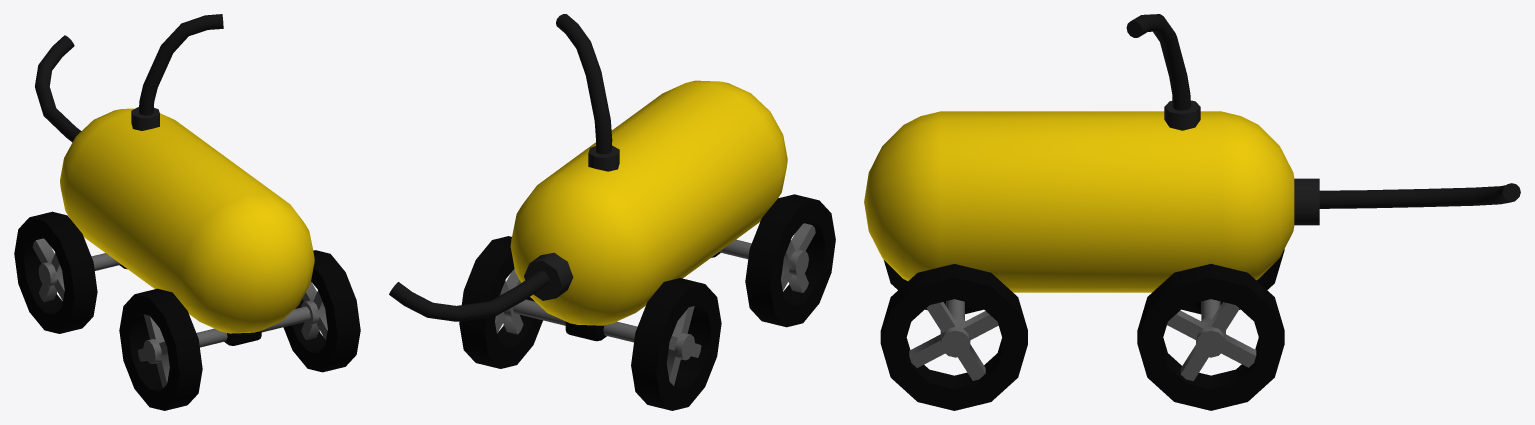
The model's file is Nasos.fbx.
3 renders of one model, left to right at view 1: azimuth 30°, elevation 25°; view 2: azimuth 150°, elevation 25°; view 3: azimuth 270°, elevation 25°, orthographic. The views are drawn at different scales.
Visible parts, largest first — view 1: Sphere, Cylinder.004, Vert.009, Vert.008; view 2: Sphere, Cylinder.004, Vert.008, Vert.009; view 3: Sphere, Cylinder.004, Vert.008, Vert.009.
Part boxes in pixels (bbox=[...]): Sphere: bbox=[60, 107, 314, 333]; Cylinder.004: bbox=[14, 211, 360, 410]; Vert.009: bbox=[139, 14, 223, 115]; Vert.008: bbox=[35, 35, 81, 142]; Sphere: bbox=[510, 80, 787, 325]; Cylinder.004: bbox=[459, 194, 835, 410]; Vert.008: bbox=[389, 271, 549, 321]; Vert.009: bbox=[556, 14, 612, 154]; Sphere: bbox=[864, 100, 1319, 292]; Cylinder.004: bbox=[880, 249, 1284, 410]; Vert.008: bbox=[1319, 183, 1520, 208]; Vert.009: bbox=[1126, 14, 1190, 110].
Size of the model in its own units: 236 by 378 by 608.
